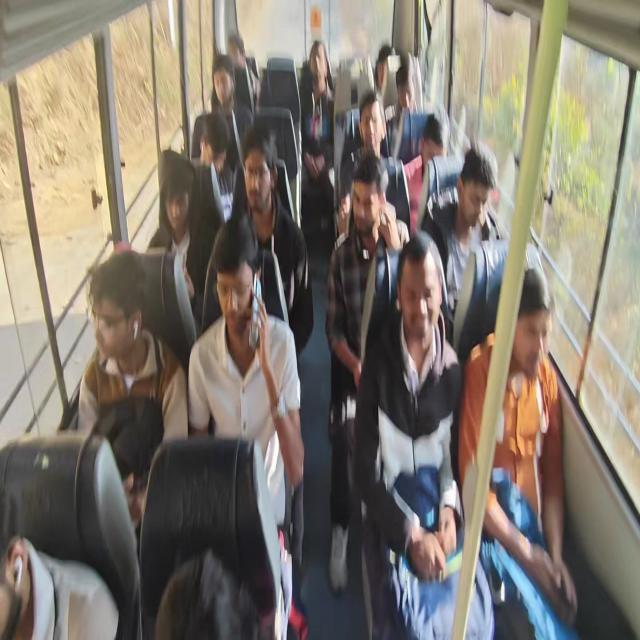person: (70, 30, 577, 638), (352, 232, 495, 638), (187, 214, 305, 636), (458, 266, 578, 638), (325, 153, 410, 595), (77, 248, 188, 530), (231, 128, 314, 358), (421, 146, 496, 325), (146, 149, 217, 335), (0, 533, 120, 639), (338, 93, 410, 236), (154, 548, 261, 638), (300, 40, 336, 234), (402, 110, 448, 232), (210, 54, 252, 172), (196, 112, 234, 229), (226, 31, 261, 115), (373, 44, 392, 102)
